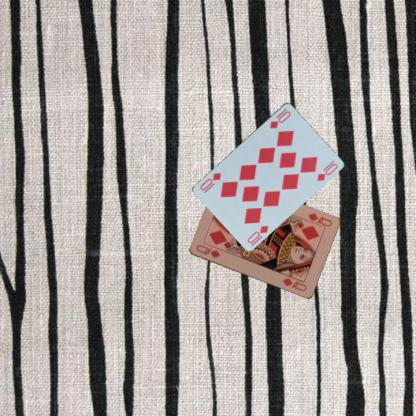10d: (245, 222, 270, 244), (267, 108, 292, 129)
Qd: (301, 210, 332, 230), (194, 242, 221, 260)
